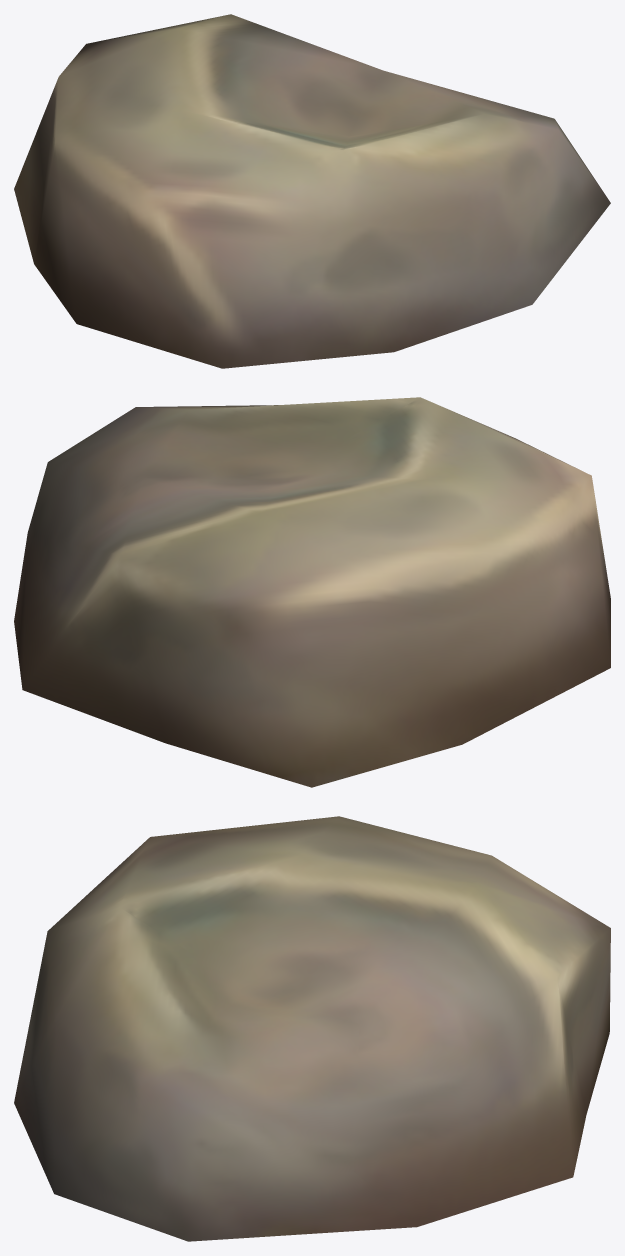
The model's file is Stone 2.fbx.
3 renders of one model, top to bottom at view 1: azimuth 30°, elevation 25°; view 2: azimuth 150°, elevation 25°; view 3: azimuth 270°, elevation 25°, orthographic. The views are drawn at different scales.
Parts seen in each view (by area): view 1: Icosphere.001; view 2: Icosphere.001; view 3: Icosphere.001.
Boxes of the visible parts, bbox=[...] form: Icosphere.001: bbox=[14, 14, 610, 368]; Icosphere.001: bbox=[14, 397, 610, 787]; Icosphere.001: bbox=[14, 816, 610, 1241].
Bounding box in the file's own units: 1.68 × 0.57 × 1.47.
